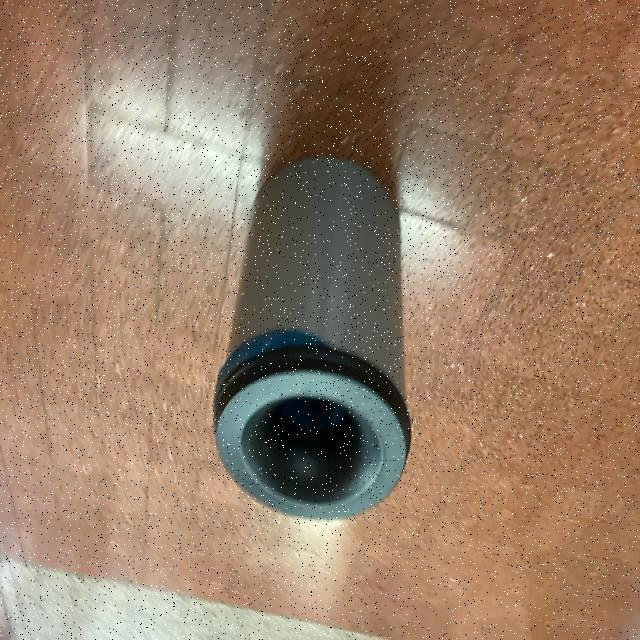garbage container: (190, 125, 452, 542)
